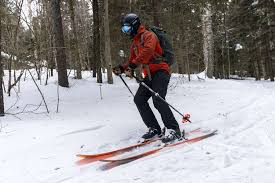skis: (74, 122, 220, 166)
